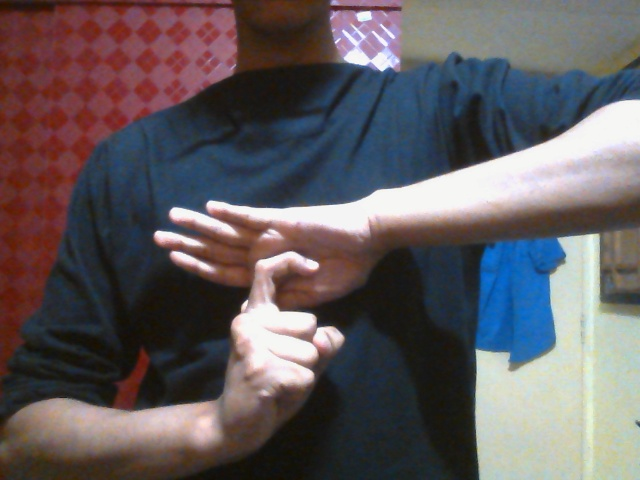R: (149, 195, 391, 438)
